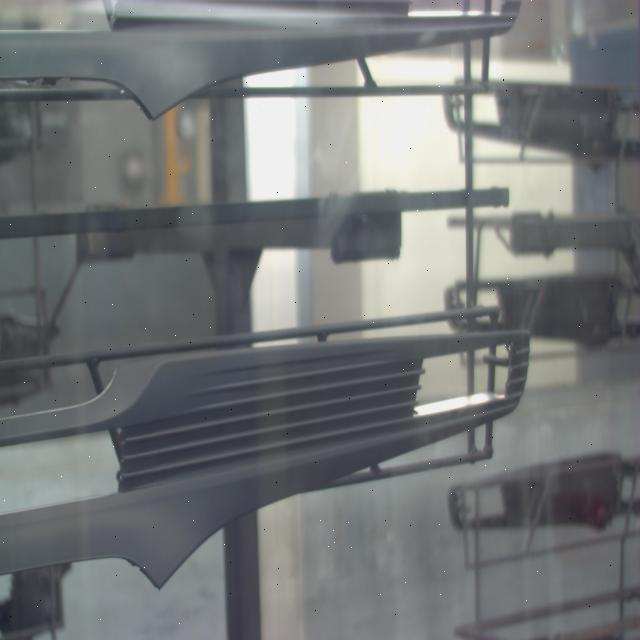Primered: (0, 297, 545, 600), (0, 0, 527, 137)
